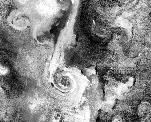CE: (51, 68, 79, 93), (9, 12, 31, 32)
